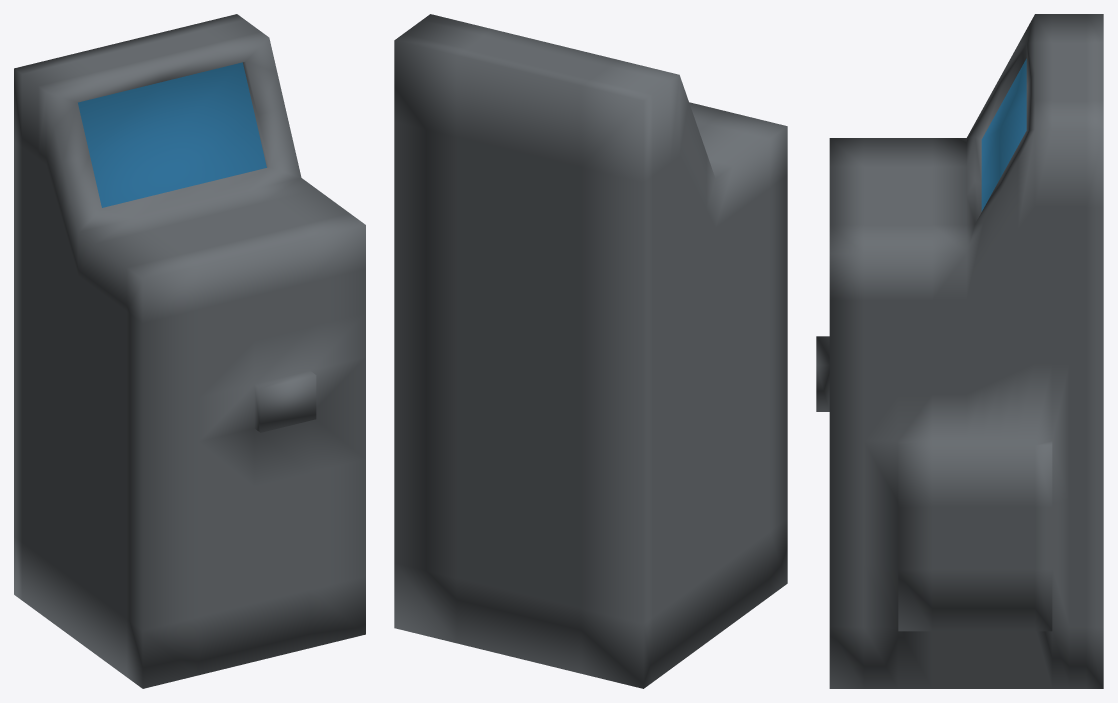
File: TempMonitor.fbx
The picture shows the model from 3 angles, left to right: view 1: azimuth 30°, elevation 25°; view 2: azimuth 150°, elevation 25°; view 3: azimuth 270°, elevation 25°; orthographic projection. The views are drawn at different scales.
Parts seen in each view (by area): view 1: Cube; view 2: Cube; view 3: Cube.
Part boxes in pixels (box(x1,y1,x2,y2)): Cube: box(14, 14, 365, 688); Cube: box(394, 14, 787, 688); Cube: box(816, 14, 1103, 688).
Size of the model in its own units: 208 by 451 by 210.
